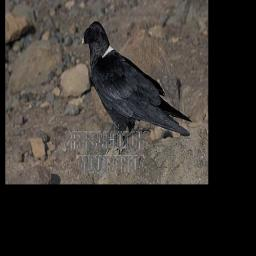Crow: (79, 20, 193, 159)
